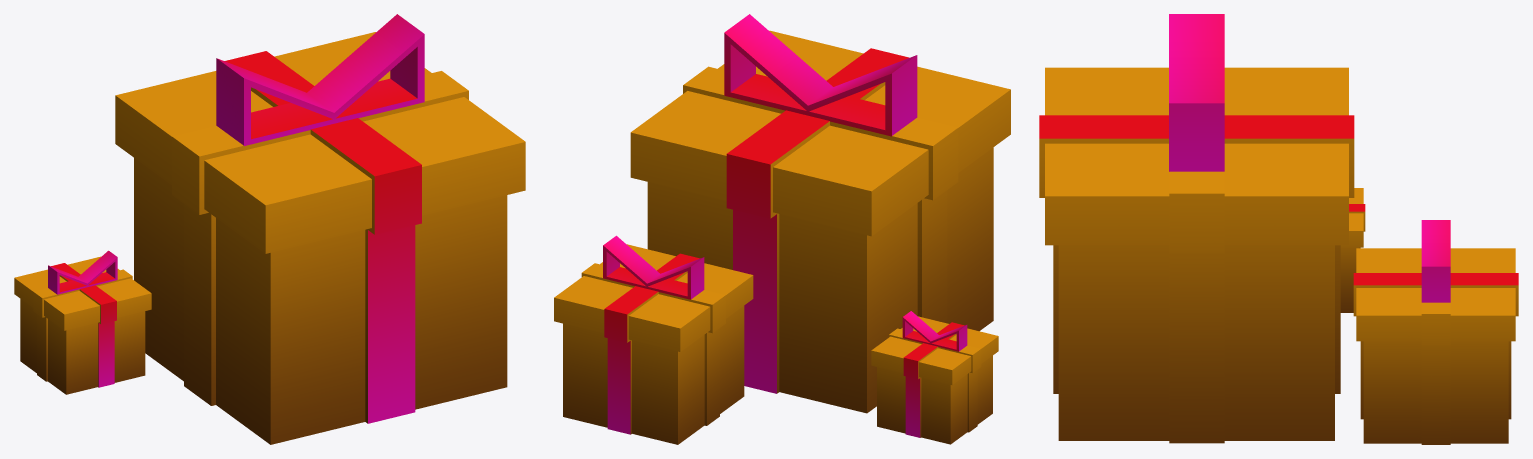
3 renders of one model, left to right at view 1: azimuth 30°, elevation 25°; view 2: azimuth 150°, elevation 25°; view 3: azimuth 270°, elevation 25°, orthographic. The views are drawn at different scales.
Visible parts, largest first — view 1: smMAT0110026; view 2: smMAT0110026; view 3: smMAT0110026.
Part boxes in pixels (<box>): smMAT0110026: <box>14,14,525,444</box>; smMAT0110026: <box>554,14,1010,444</box>; smMAT0110026: <box>1039,14,1518,444</box>.
Bounding box in the file's own units: 105 × 89.25 × 120.
1 material, 1 textured.
